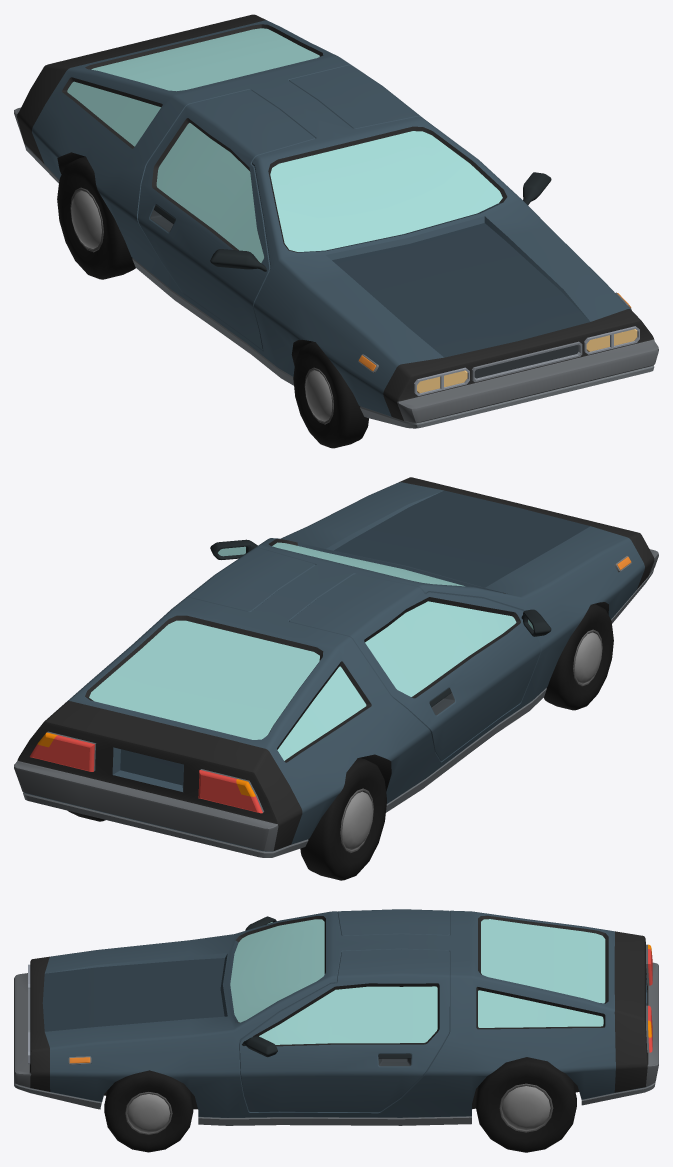
File: SM_Vehicles_14_V1.fbx
The picture shows the model from 3 angles, top to bottom: view 1: azimuth 30°, elevation 25°; view 2: azimuth 150°, elevation 25°; view 3: azimuth 270°, elevation 25°; orthographic projection. The views are drawn at different scales.
Visible parts, largest first — view 1: SM_Vehicles_14_V1, SM_Vehicles_14_RR, SM_Vehicles_14_FR; view 2: SM_Vehicles_14_V1, SM_Vehicles_14_RR, SM_Vehicles_14_FR; view 3: SM_Vehicles_14_V1, SM_Vehicles_14_RL, SM_Vehicles_14_FL.
Part boxes in pixels (x1,y1,x2,y2): SM_Vehicles_14_V1: (14, 14, 658, 428); SM_Vehicles_14_RR: (57, 156, 135, 279); SM_Vehicles_14_FR: (293, 341, 368, 448); SM_Vehicles_14_V1: (14, 477, 658, 857); SM_Vehicles_14_RR: (300, 758, 386, 880); SM_Vehicles_14_FR: (544, 604, 613, 710); SM_Vehicles_14_V1: (14, 909, 658, 1125); SM_Vehicles_14_RL: (475, 1057, 576, 1152); SM_Vehicles_14_FL: (104, 1070, 193, 1152).
Size of the model in its own units: 1.95 by 1.07 by 3.92.
